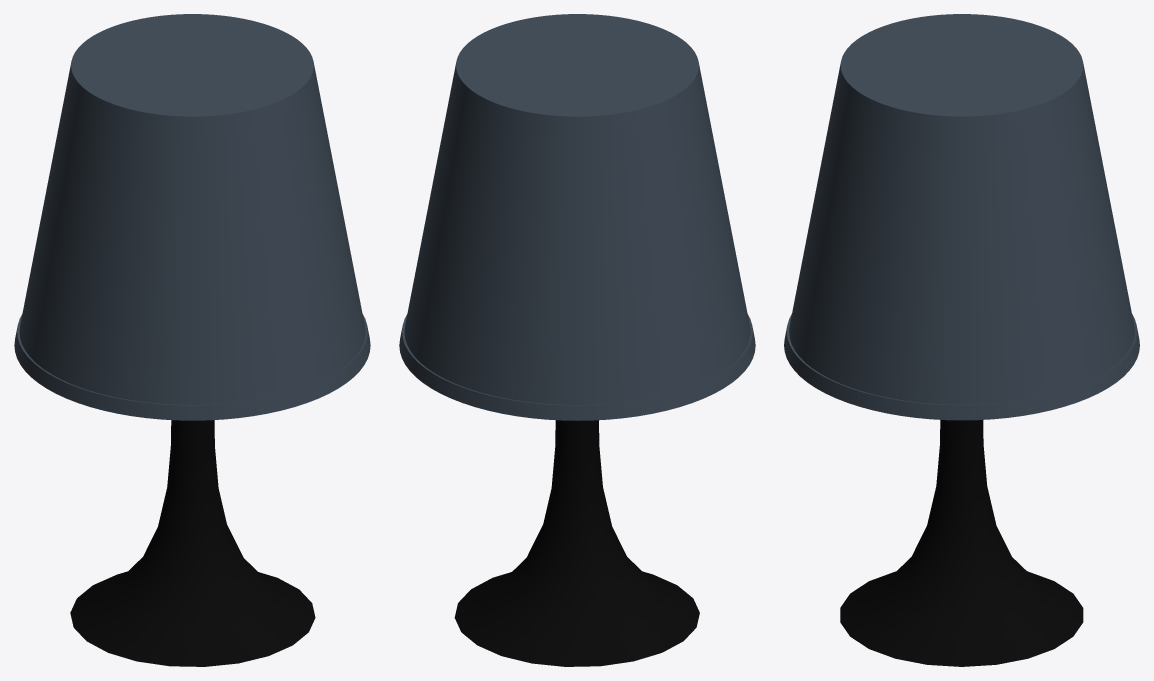
The model's file is IKEA-Laver_Table-3D.obj.
3 renders of one model, left to right at view 1: azimuth 30°, elevation 25°; view 2: azimuth 150°, elevation 25°; view 3: azimuth 270°, elevation 25°, orthographic.
Parts seen in each view (by area): view 1: Cylinder01; view 2: Cylinder01; view 3: Cylinder01.
Boxes of the visible parts, left/top/right/bottom form: Cylinder01: left=14, top=14, right=370, bottom=666; Cylinder01: left=399, top=14, right=755, bottom=666; Cylinder01: left=784, top=14, right=1139, bottom=666.
Size of the model in its own units: 29.36 by 50.02 by 29.36.
